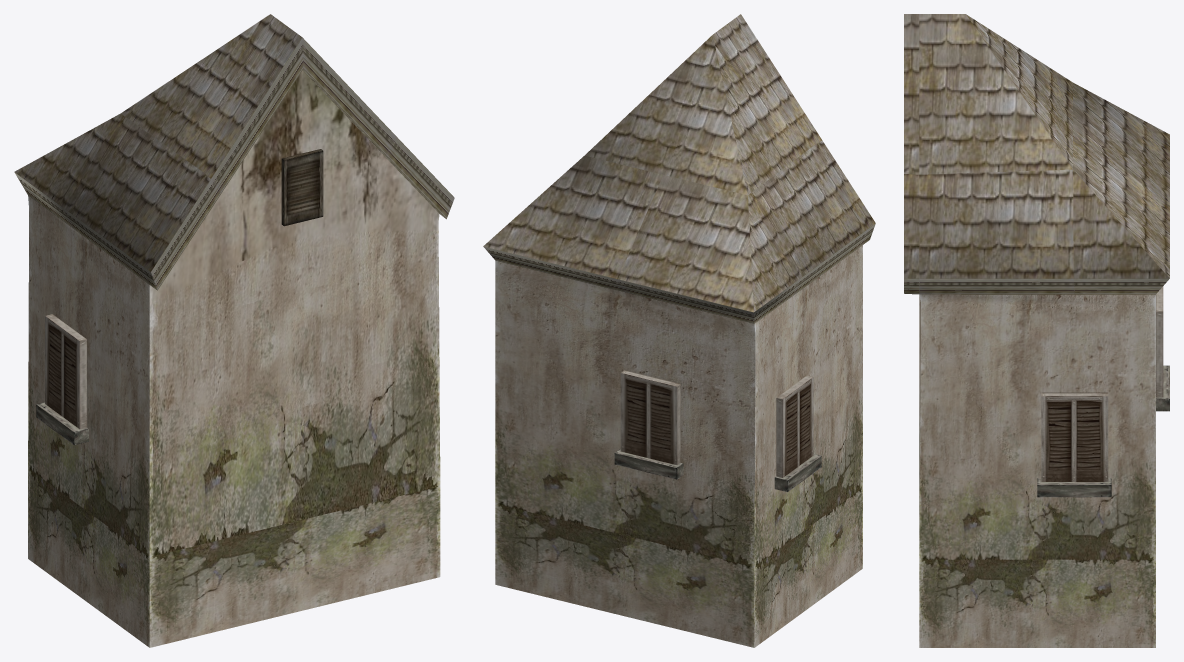
The model's file is english_corner_c2.fbx.
3 renders of one model, left to right at view 1: azimuth 30°, elevation 25°; view 2: azimuth 150°, elevation 25°; view 3: azimuth 270°, elevation 25°, orthographic. The views are drawn at different scales.
Parts seen in each view (by area): view 1: building_shell, polySurface1, shutters, window_1_sill, window_1; view 2: building_shell, polySurface2.001, polySurface1, window_1_sill1.001, window_1_sill, window_1; view 3: building_shell, polySurface2, window_1_sill1, window_3.001, window_1_sill1.001.
Boxes of the visible parts, x1,y1,x2,y2 form: building_shell: (14,14,454,647); polySurface1: (45,316,79,428); shutters: (281,149,323,226); window_1_sill: (36,402,88,445); window_1: (45,314,86,428); building_shell: (483,14,875,647); polySurface2.001: (620,373,677,464); polySurface1: (783,377,813,477); window_1_sill1.001: (614,449,683,479); window_1_sill: (774,454,821,491); window_1: (776,375,812,477); building_shell: (904,14,1169,647); polySurface2: (1041,396,1108,481); window_1_sill1: (1037,478,1111,497); window_3.001: (1156,286,1163,397); window_1_sill1.001: (1156,365,1169,411).
Size of the model in its own units: 1837 by 3197 by 1364.
1 material, 1 textured.
